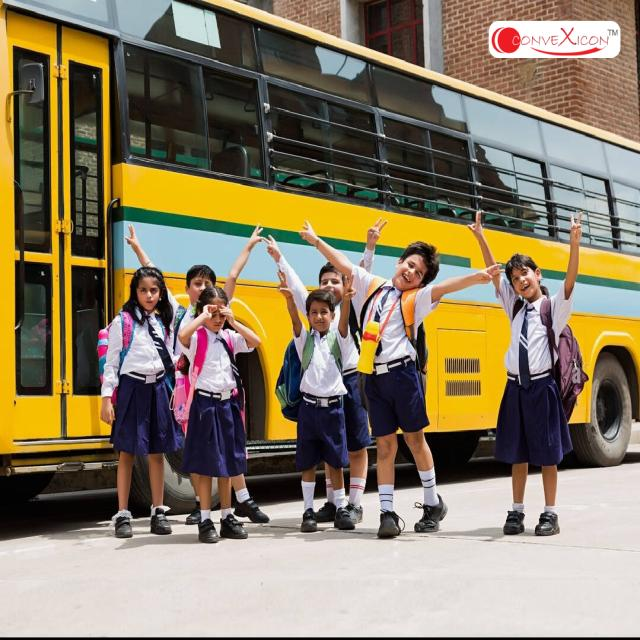bus: (0, 0, 640, 497)
